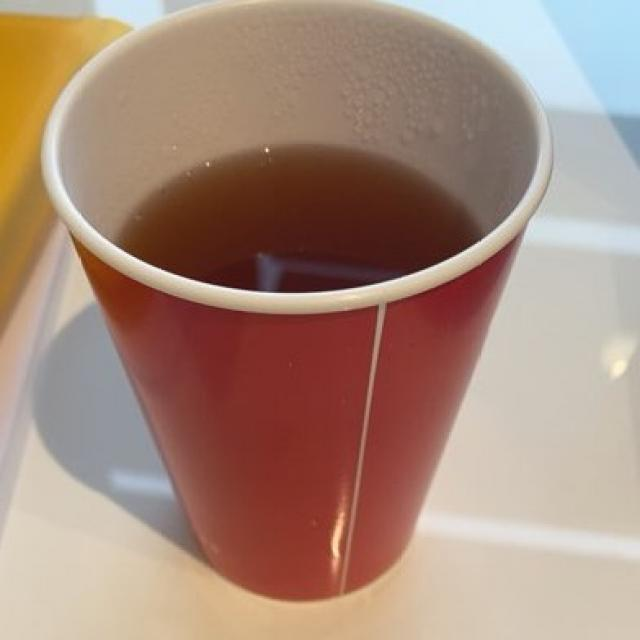tea-green: (115, 142, 465, 293)
